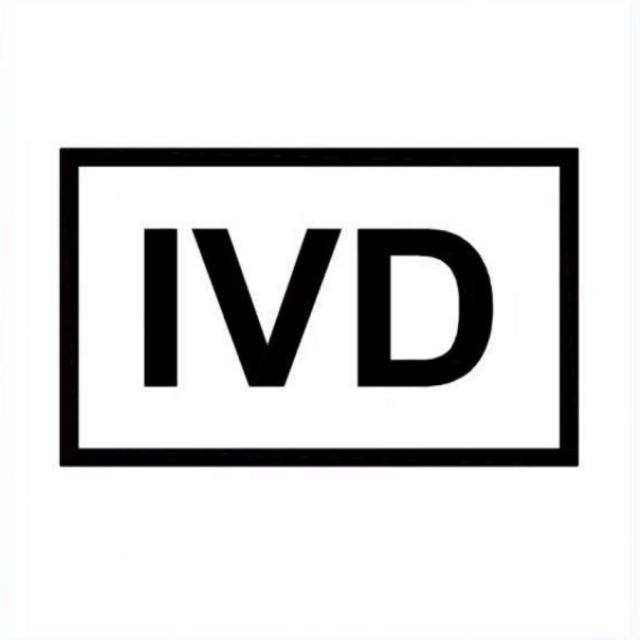In vitro Diagnostic Medical device: (60, 146, 579, 469)
